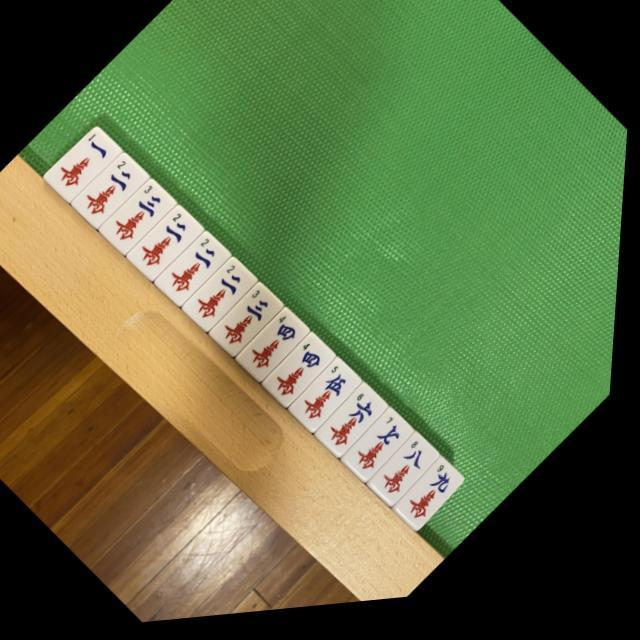sc1: (44, 125, 126, 207)
sc2: (71, 151, 154, 235), (127, 205, 209, 288), (156, 233, 237, 315), (184, 258, 263, 339)
sc3: (100, 179, 182, 262), (211, 285, 290, 365)
sc4: (264, 337, 344, 418), (238, 310, 317, 392)
sc5: (290, 363, 370, 443)
sc6: (318, 388, 397, 468)
sc7: (344, 414, 424, 494)
sc8: (372, 441, 448, 518)
sc9: (397, 466, 473, 543)
